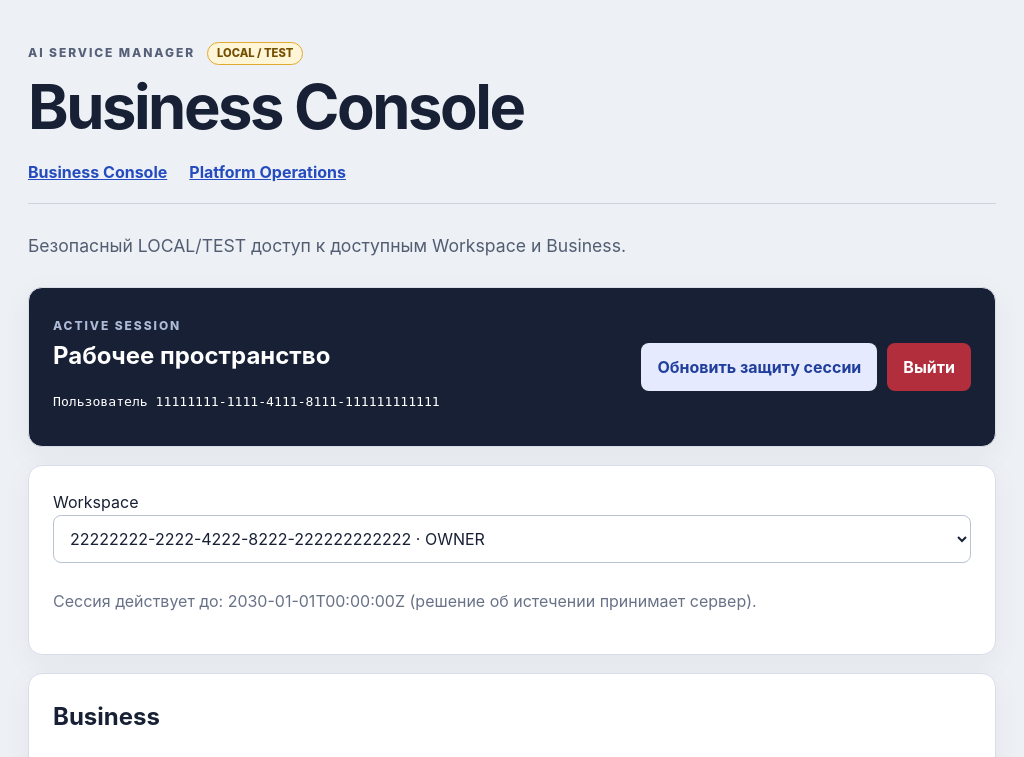
Test case: Business Console auth › ends pending logout on an owned SESSION_REQUIRED recheck
Check: the text "Пользователь 11111111-1111-4111-8111-111111111111" is shown, box [53,394,440,409]
What coordinates should you click on to do the following:
click the button "Выйти"
I would click on:
 (929, 367)
Its box is [887,343,971,391].
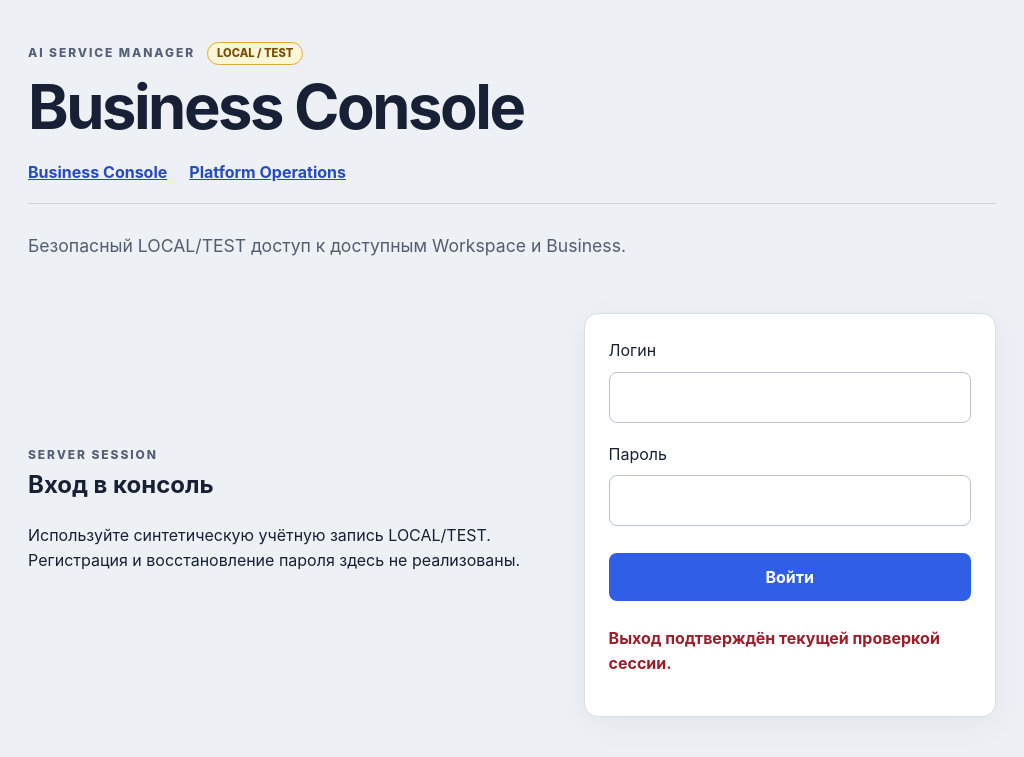
Check: the text "Выход подтверждён текущей проверкой сессии." is shown, box [608,626,971,676]
